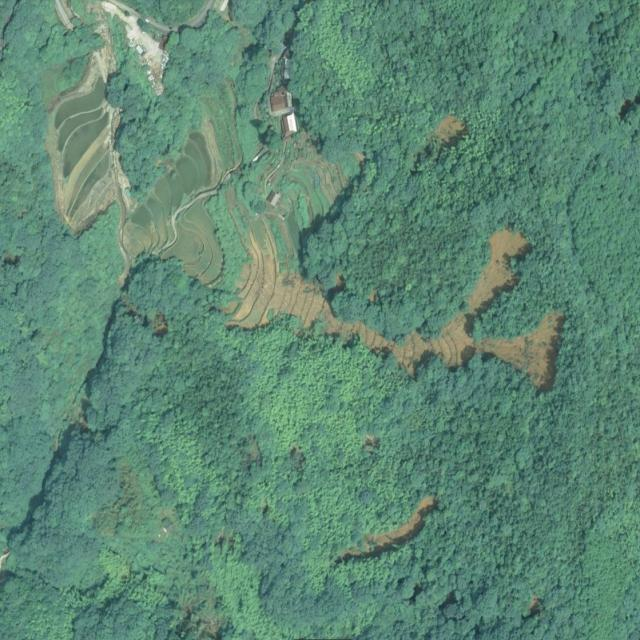landslide: (432, 229, 567, 391), (335, 497, 439, 565)
